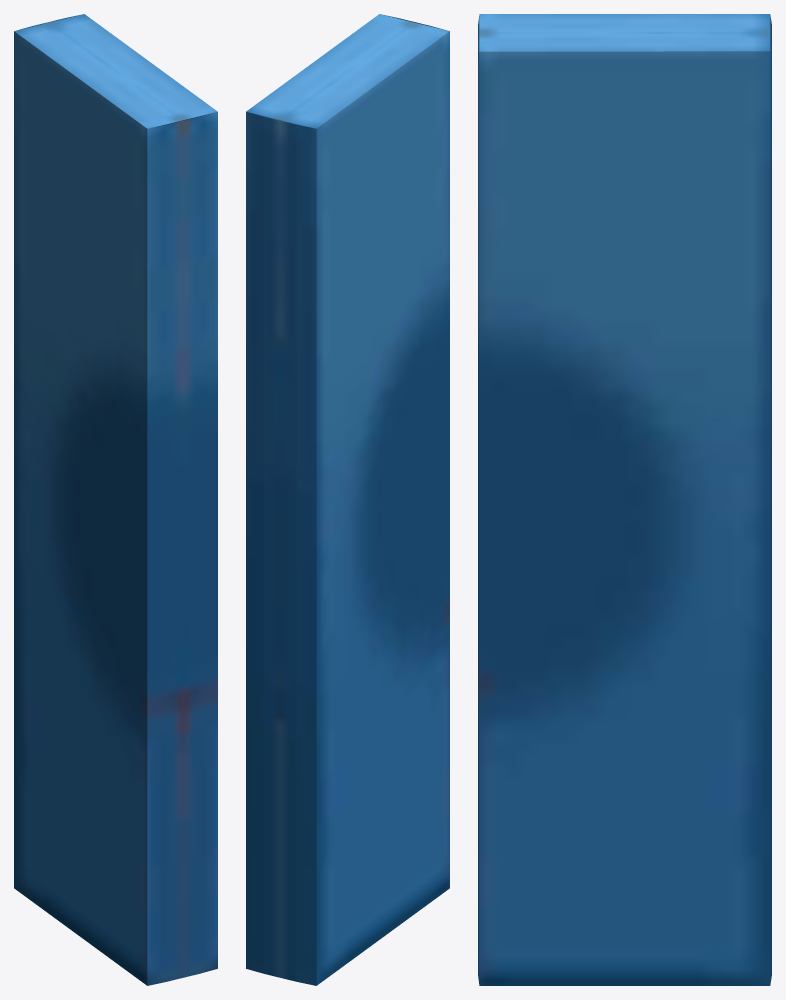
Rendered from 0022_FuDianPaiPai_003.glb.
The picture shows the model from 3 angles, left to right: view 1: azimuth 30°, elevation 25°; view 2: azimuth 150°, elevation 25°; view 3: azimuth 270°, elevation 25°; orthographic projection. The views are drawn at different scales.
Bounding box in the file's own units: 0.1893 × 2.2 × 0.6268.
1 material, 1 textured.
